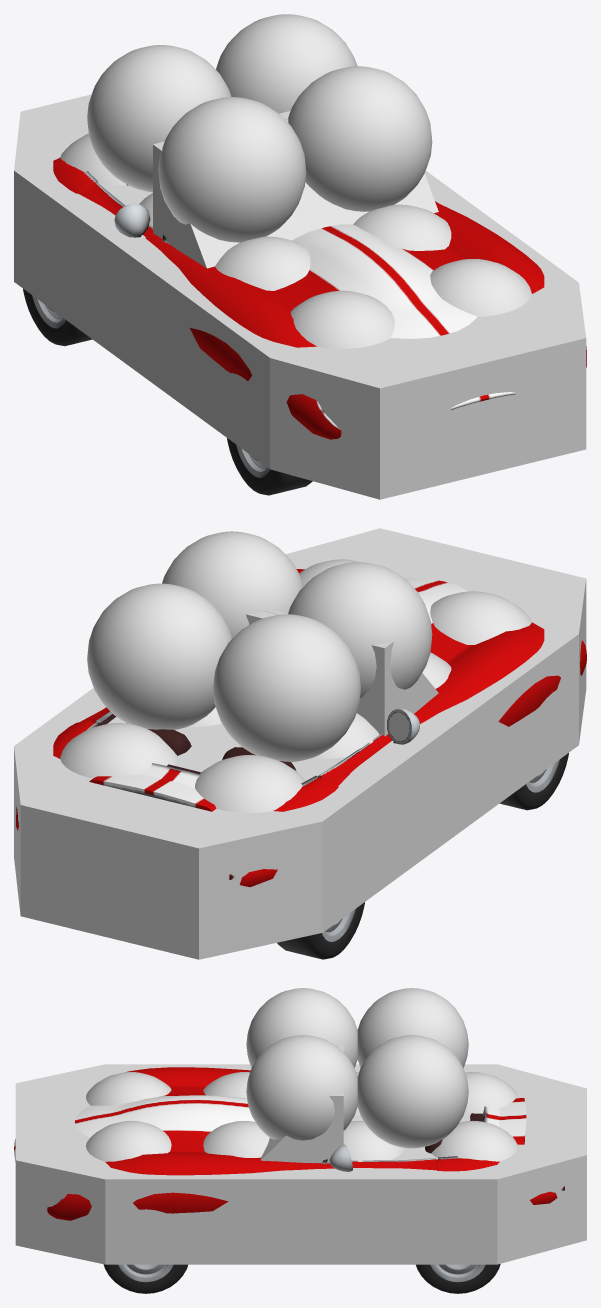
The model's file is car.glb.
3 views of the same model, one above another, from view 1: azimuth 30°, elevation 25°; view 2: azimuth 150°, elevation 25°; view 3: azimuth 270°, elevation 25° (orthographic). The views are drawn at different scales.
Parts seen in each view (by area): view 1: Cube.006, body, Sphere.002, Sphere.001, Sphere.007, Sphere.004, Cube.002, Sphere.003, Sphere, Sphere.011, Sphere.010, wheel_fr (+3 smaller); view 2: Cube.006, Sphere.007, Sphere.004, body, Sphere.002, Sphere.001, Sphere.006, Sphere.005, Sphere.003, Cube.002, door_2, wheel (+3 smaller); view 3: Cube.006, body, Sphere.004, Sphere.001, Sphere.007, Sphere.002, Sphere, Sphere.005, Cube.002, Sphere.003, Sphere.010, Cylinder.001 (+5 smaller).
Boxes of the visible parts, <box> form: Cube.006: <box>14,94,586,499</box>; body: <box>53,119,586,439</box>; Sphere.002: <box>158,97,306,242</box>; Sphere.001: <box>288,66,432,211</box>; Sphere.007: <box>87,45,231,192</box>; Sphere.004: <box>216,14,357,113</box>; Cube.002: <box>153,111,438,268</box>; Sphere.003: <box>290,290,394,348</box>; Sphere: <box>430,259,531,316</box>; Sphere.011: <box>215,236,310,290</box>; Sphere.010: <box>353,204,451,250</box>; wheel_fr: <box>227,438,312,495</box>; Cube.006: <box>14,528,586,959</box>; Sphere.007: <box>213,614,360,762</box>; Sphere.004: <box>87,583,232,730</box>; body: <box>16,569,586,887</box>; Sphere.002: <box>288,562,432,698</box>; Sphere.001: <box>162,531,303,638</box>; Sphere.006: <box>195,755,305,812</box>; Sphere.005: <box>60,723,177,778</box>; Sphere.003: <box>430,591,531,644</box>; Cube.002: <box>245,610,438,736</box>; door_2: <box>318,708,419,785</box>; wheel: <box>277,902,364,959</box>; Cube.006: <box>15,1064,586,1264</box>; body: <box>14,1067,564,1220</box>; Sphere.004: <box>357,1035,468,1148</box>; Sphere.001: <box>246,1035,357,1140</box>; Sphere.007: <box>357,988,468,1067</box>; Sphere.002: <box>246,988,357,1067</box>; Sphere: <box>86,1121,171,1161</box>; Sphere.005: <box>431,1121,518,1161</box>; Cube.002: <box>260,1044,343,1163</box>; Sphere.003: <box>86,1072,171,1105</box>; Sphere.010: <box>203,1120,269,1157</box>; Cylinder.001: <box>416,1264,500,1293</box>.
Bounding box in the file's own units: 1.46 × 1.31 × 3.03.
6 materials, 5 textured.
